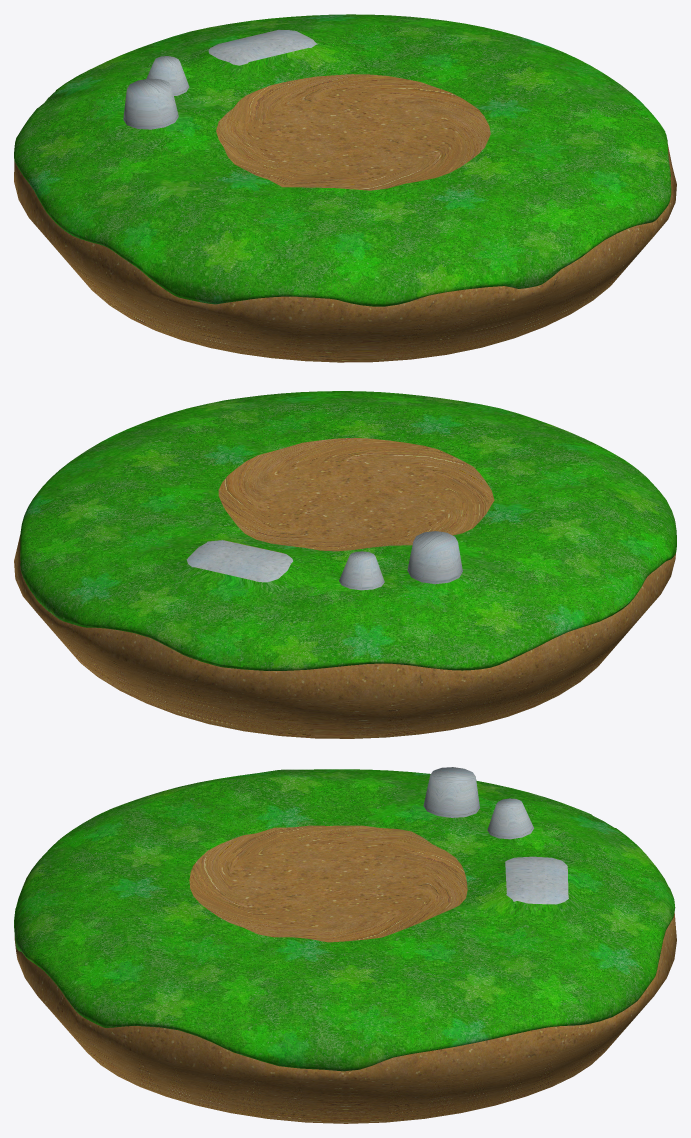
Rendered from HikeGardenRevolution.obj.
3 views of the same model, one above another, from view 1: azimuth 30°, elevation 25°; view 2: azimuth 150°, elevation 25°; view 3: azimuth 270°, elevation 25° (orthographic).
Visible parts, largest first — view 1: mesh-5.001_meshId5_name.000, mesh-5.000_meshId5_name.082, Plane.002_Plane.003; view 2: mesh-5.001_meshId5_name.000, mesh-5.000_meshId5_name.082, Plane.002_Plane.003; view 3: mesh-5.001_meshId5_name.000, mesh-5.000_meshId5_name.082, Plane.002_Plane.003.
Boxes of the visible parts, x1,y1,x2,y2 form: mesh-5.001_meshId5_name.000: (14, 14, 671, 306); mesh-5.000_meshId5_name.082: (14, 74, 676, 362); Plane.002_Plane.003: (123, 29, 317, 129); mesh-5.001_meshId5_name.000: (20, 391, 676, 670); mesh-5.000_meshId5_name.082: (14, 437, 675, 738); Plane.002_Plane.003: (186, 531, 462, 590); mesh-5.001_meshId5_name.000: (14, 769, 675, 1071); mesh-5.000_meshId5_name.082: (14, 825, 676, 1123); Plane.002_Plane.003: (423, 767, 568, 904).
Size of the model in its own units: 2935 by 941 by 2935.
